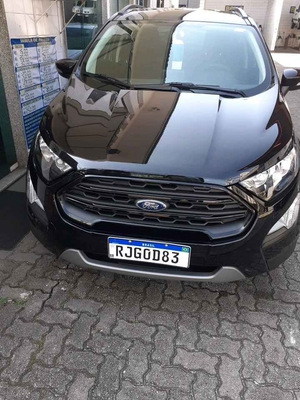Frontal Veiculo: (24, 12, 299, 284)
